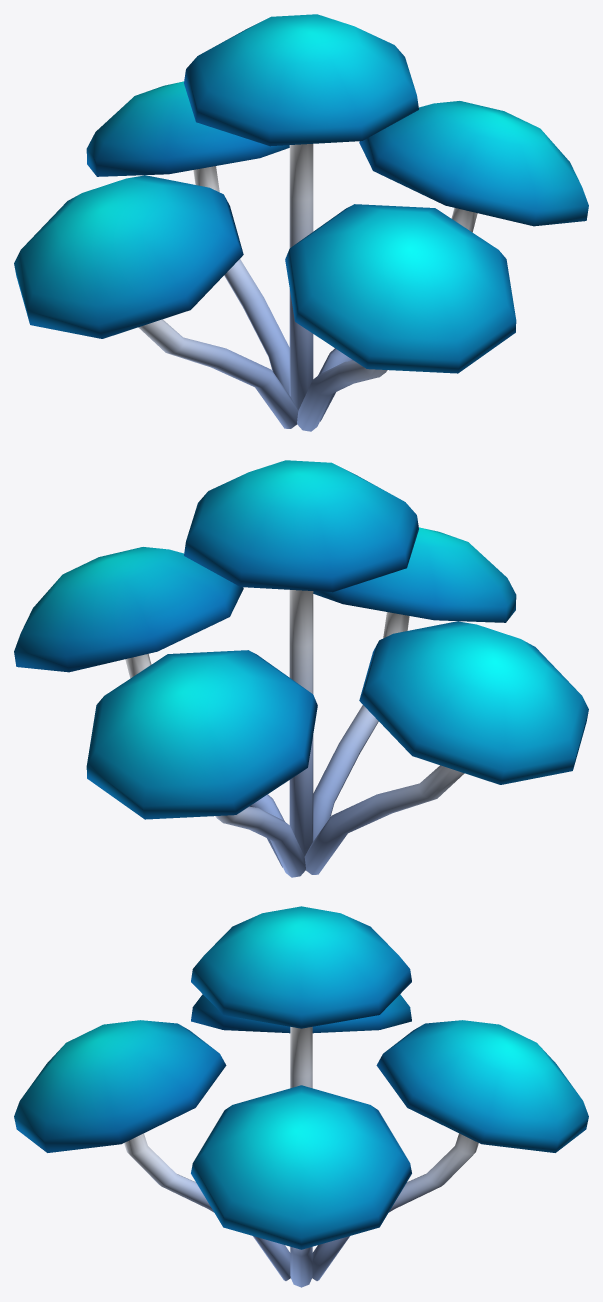
File: mushroom.fbx
3 views of the same model, one above another, from view 1: azimuth 30°, elevation 25°; view 2: azimuth 150°, elevation 25°; view 3: azimuth 270°, elevation 25° (orthographic). The views are drawn at different scales.
Parts seen in each view (by area): view 1: mushroom_1.001; view 2: mushroom_1.001; view 3: mushroom_1.001.
Boxes of the visible parts, bbox=[...] form: mushroom_1.001: bbox=[14, 14, 588, 431]; mushroom_1.001: bbox=[14, 460, 588, 877]; mushroom_1.001: bbox=[14, 906, 588, 1287].
Bounding box in the file's own units: 47.36 × 32.57 × 47.36.
